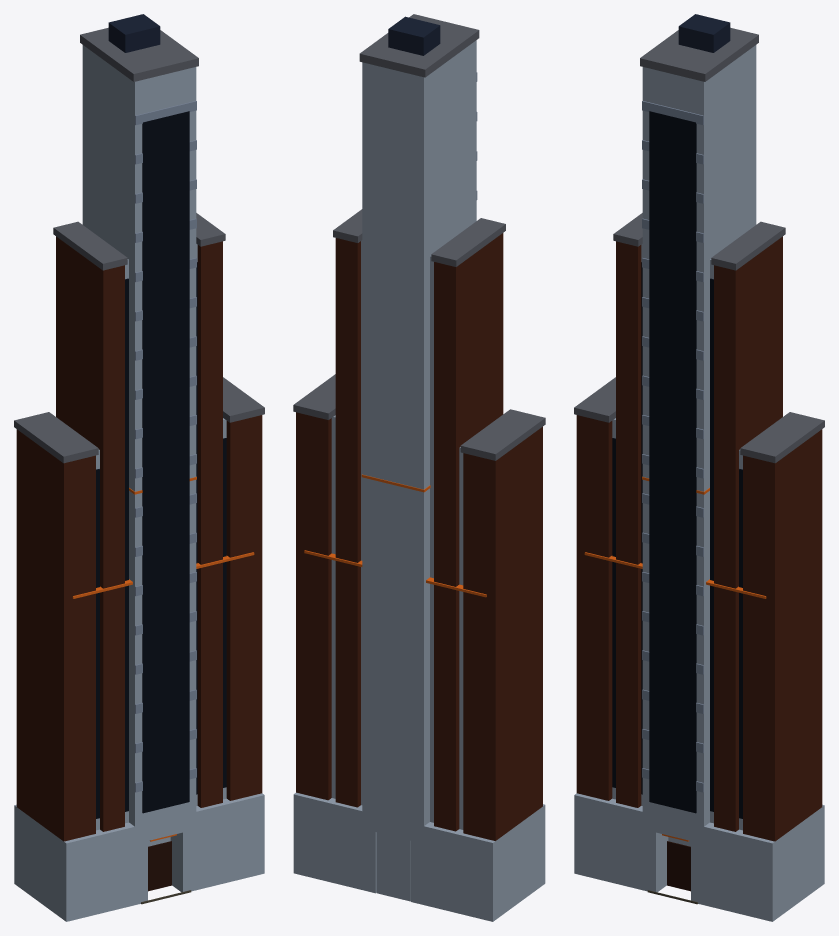
File: pinnacle3.obj
3 renders of one model, left to right at view 1: azimuth 30°, elevation 25°; view 2: azimuth 150°, elevation 25°; view 3: azimuth 330°, elevation 25°, orthographic.
Visible parts, largest first — view 1: buttresses, core-glazing, core-shaft, base-jambs, buttress-caps, infill-glazing, spandrels, core-cap, roof-plant, entrance, portal-head, window-lights; view 2: buttresses, core-shaft, base-jambs, infill, buttress-caps, core-cap, portal-back, roof-plant, window-lights, portal-head; view 3: buttresses, core-glazing, core-shaft, base-jambs, buttress-caps, infill-glazing, spandrels, core-cap, roof-plant, entrance, portal-head, window-lights.
Boxes of the visible parts, bbox=[...] form: buttresses: bbox=[16, 236, 262, 841]; core-glazing: bbox=[142, 111, 189, 813]; core-shaft: bbox=[82, 45, 196, 826]; base-jambs: bbox=[14, 793, 264, 921]; buttress-caps: bbox=[14, 213, 264, 463]; infill-glazing: bbox=[96, 262, 226, 818]; spandrels: bbox=[135, 101, 196, 792]; core-cap: bbox=[80, 27, 198, 81]; roof-plant: bbox=[108, 14, 160, 52]; entrance: bbox=[148, 841, 171, 891]; portal-head: bbox=[148, 815, 182, 840]; window-lights: bbox=[72, 476, 254, 598]; buttresses: bbox=[296, 233, 542, 840]; core-shaft: bbox=[362, 40, 476, 825]; base-jambs: bbox=[293, 792, 545, 921]; infill: bbox=[331, 240, 463, 829]; buttress-caps: bbox=[293, 209, 545, 460]; core-cap: bbox=[359, 14, 479, 77]; portal-back: bbox=[376, 832, 410, 901]; roof-plant: bbox=[388, 16, 440, 55]; window-lights: bbox=[304, 474, 486, 597]; portal-head: bbox=[375, 814, 410, 840]; buttresses: bbox=[576, 236, 822, 841]; core-glazing: bbox=[649, 111, 696, 813]; core-shaft: bbox=[642, 45, 756, 826]; base-jambs: bbox=[574, 793, 824, 921]; buttress-caps: bbox=[574, 213, 824, 463]; infill-glazing: bbox=[612, 262, 742, 818]; spandrels: bbox=[642, 101, 703, 792]; core-cap: bbox=[640, 27, 758, 81]; roof-plant: bbox=[678, 14, 730, 52]; entrance: bbox=[667, 841, 690, 891]; portal-head: bbox=[656, 815, 690, 840]; window-lights: bbox=[584, 476, 766, 598].
Bounding box in the file's own units: 6.9 × 27.86 × 3.2.
